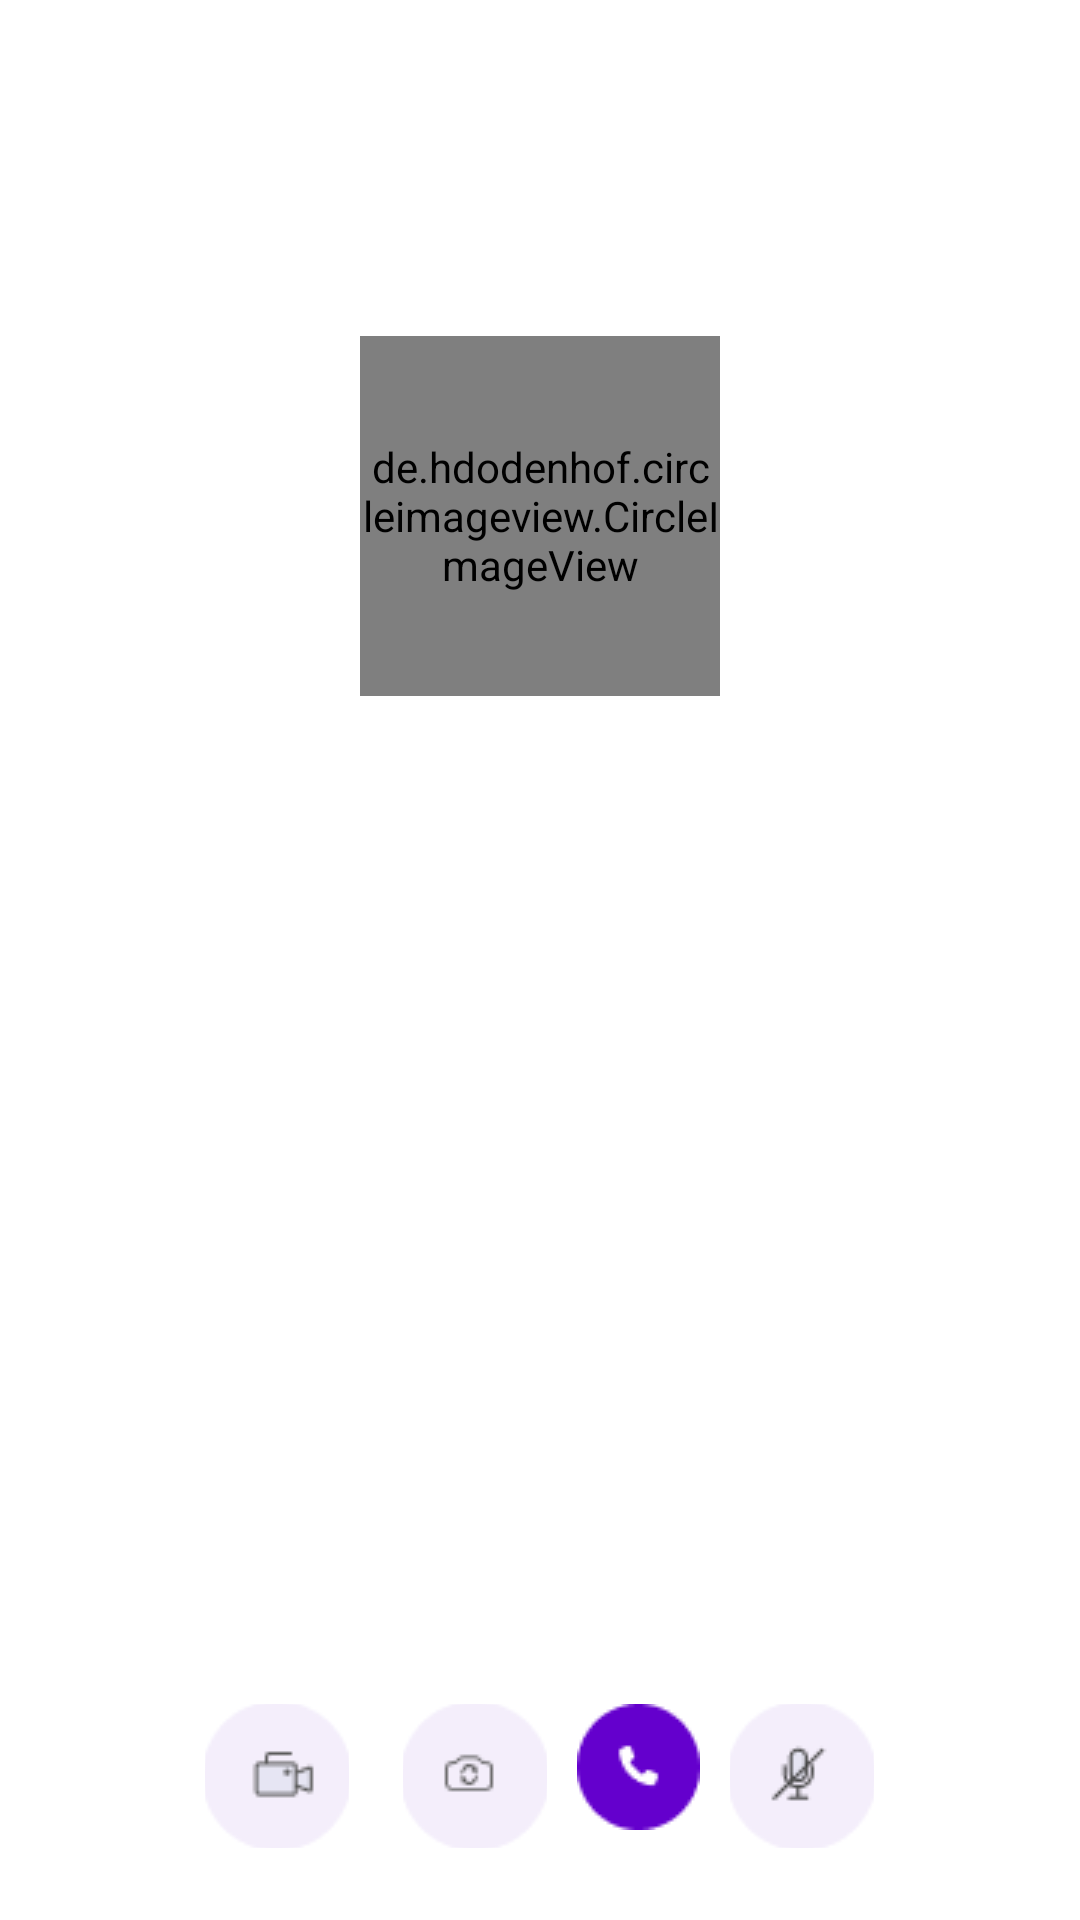

Where icons sit on this 1080px x 1920px app screen, as rect(x1, y1, x2, y2):
call: rect(577, 1704, 700, 1830)
